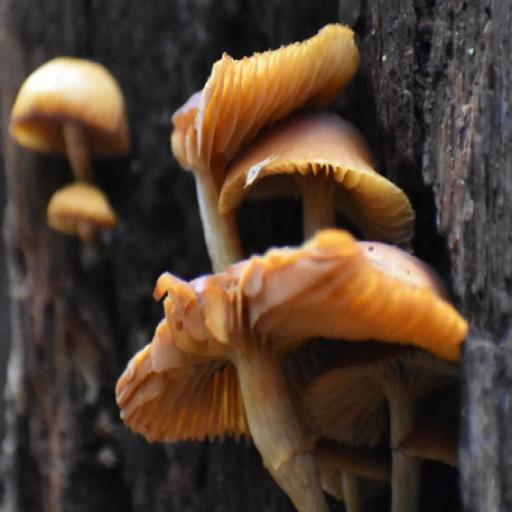mushroom: (114, 9, 485, 486)
